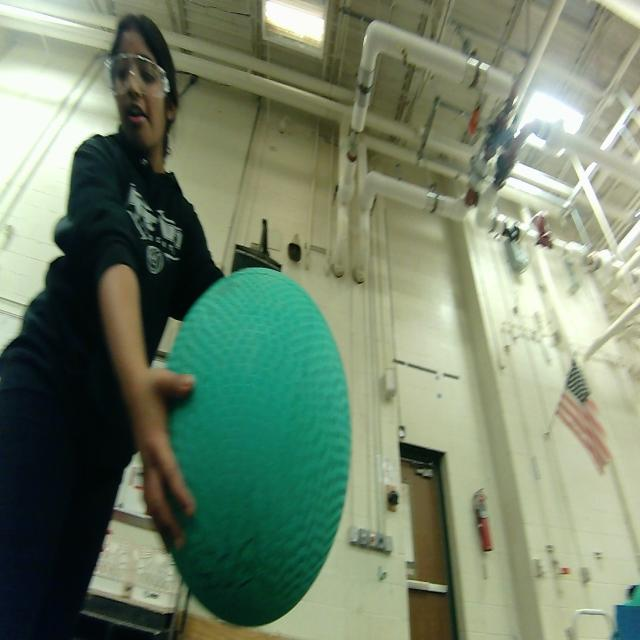algae: (143, 260, 362, 640)
